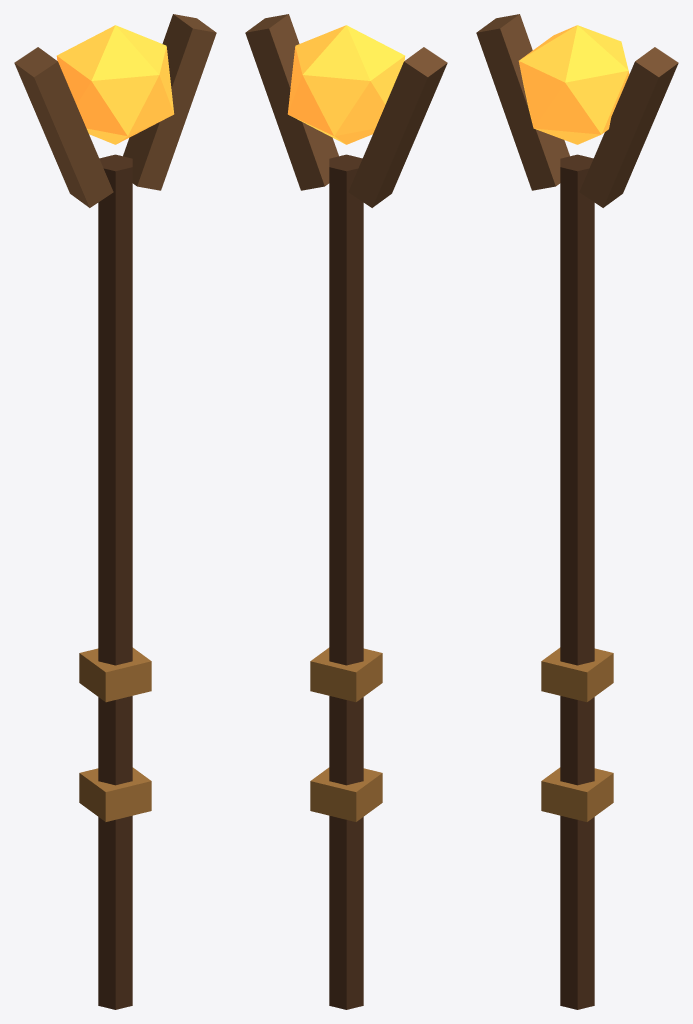
Rendered from ember_staff.glb.
3 views of the same model, side by side, from view 1: azimuth 30°, elevation 25°; view 2: azimuth 150°, elevation 25°; view 3: azimuth 330°, elevation 25° (orthographic).
Visible parts, largest first — view 1: ember_staff; view 2: ember_staff; view 3: ember_staff.
Boxes of the visible parts, x1,y1,x2,y2 form: ember_staff: (14,14,216,1009); ember_staff: (245,14,447,1009); ember_staff: (476,14,678,1009).
Size of the model in its own units: 0.3191 by 1.63 by 0.1701.
